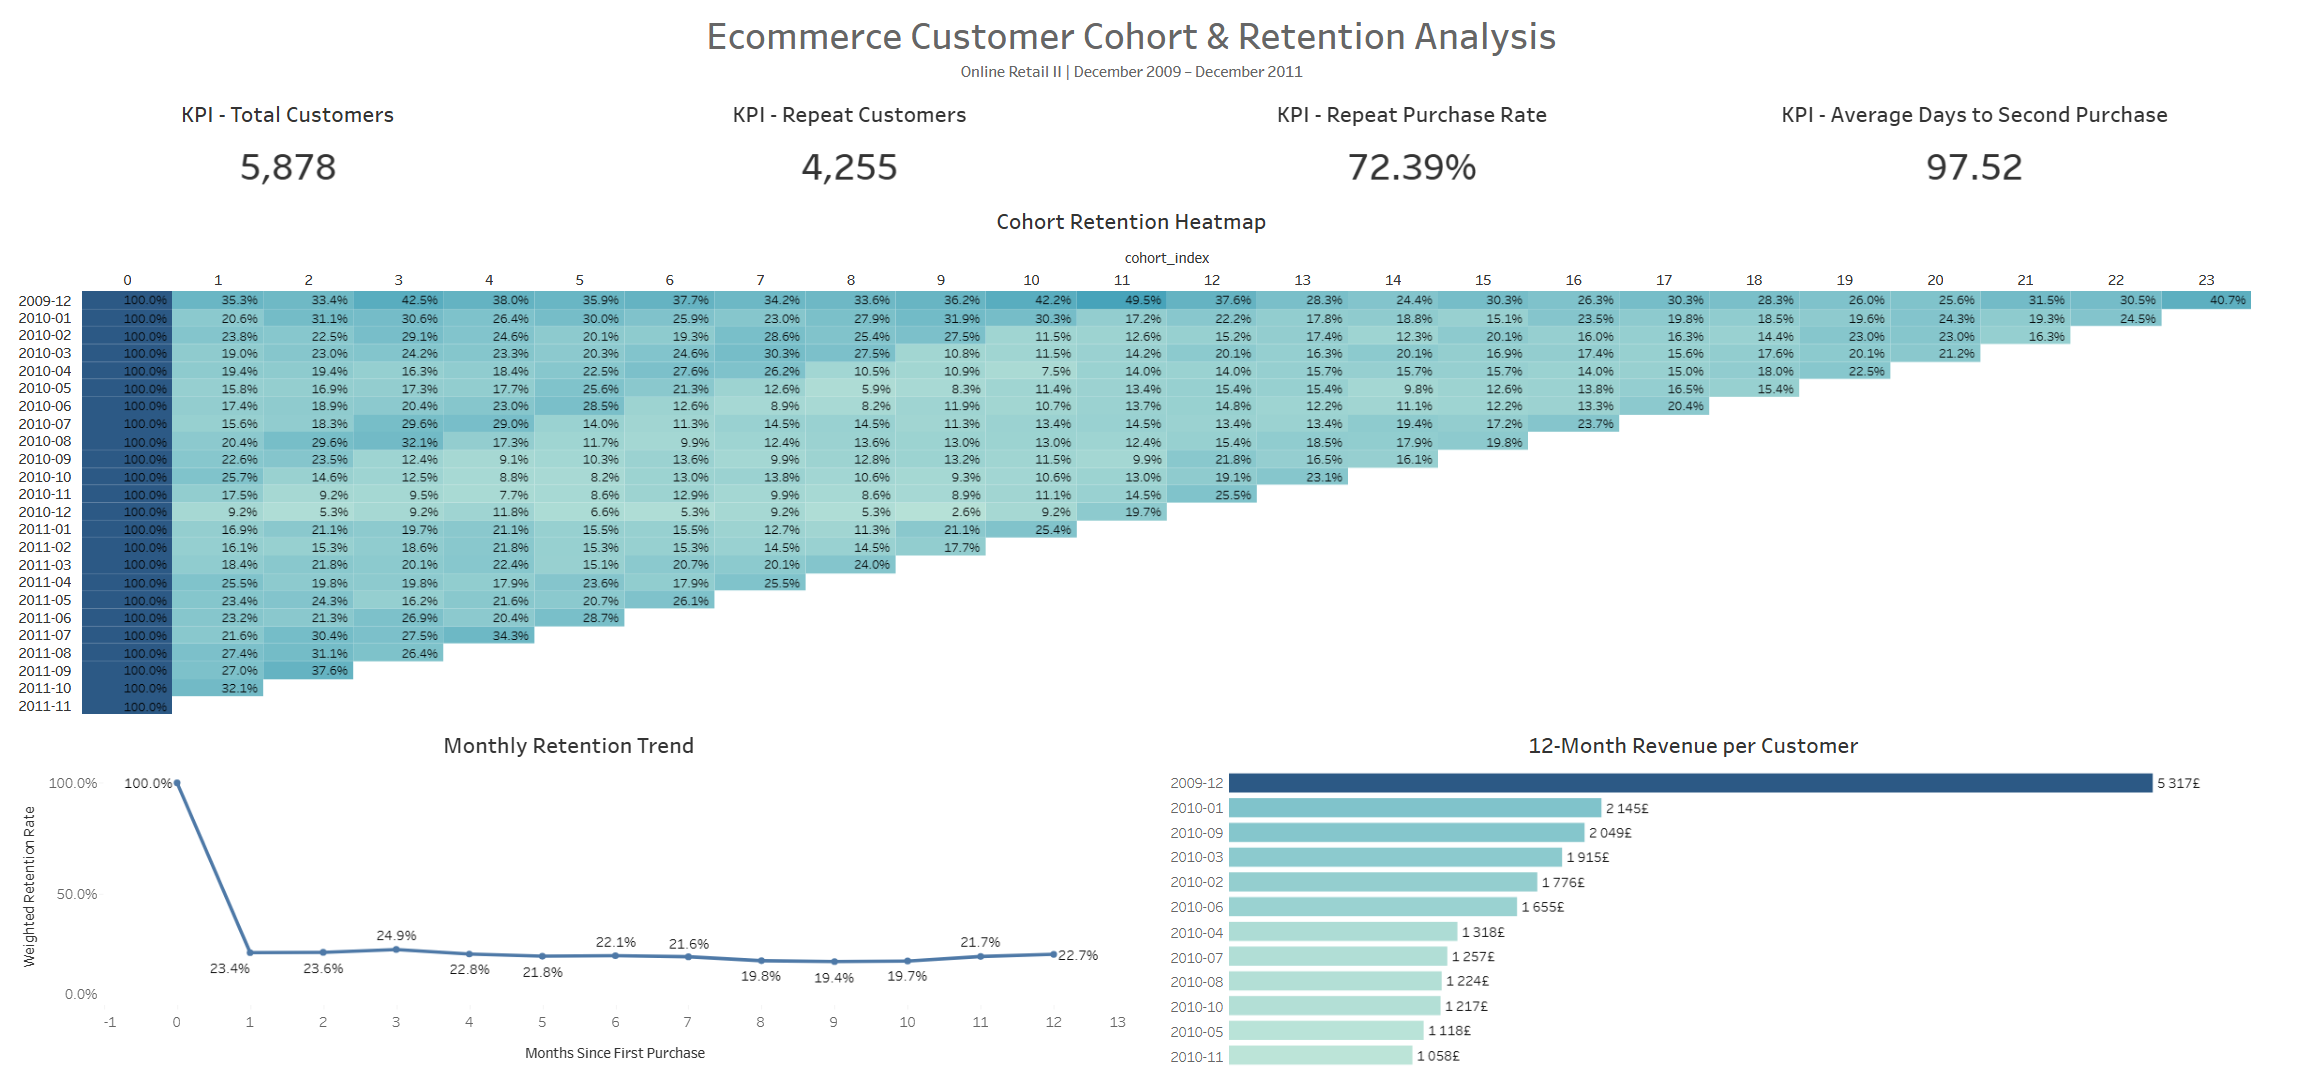

The dashboard page shown, as its layout file describes it:
{"tool":"tableau","page":{"name":"Customer Retention Dashboard","canvas":[1000,1000],"units":"permille","ordinal":0},"visuals":[{"type":"text","box":[4.3,8.2,991.4,78]},{"type":"worksheet","title":"KPI - Total Customers","mark":"Automatic","box":[4.3,86.2,247.7,97.5]},{"type":"worksheet","title":"KPI - Repeat Customers","mark":"Automatic","box":[252,86.2,248,97.5]},{"type":"worksheet","title":"KPI - Repeat Purchase Rate","mark":"Automatic","box":[500,86.2,247.7,97.5]},{"type":"worksheet","title":"KPI - Average Days to Second Purchase","mark":"Automatic","box":[747.7,86.2,248,97.5]},{"type":"worksheet","title":"Cohort Retention Heatmap","mark":"Square","rows":["cohort_label"],"cols":["cohort_index"],"box":[4.3,183.7,991.4,482.6]},{"type":"worksheet","title":"Monthly Retention Trend","mark":"Line","rows":["Calculation_0014615806435372"],"cols":["cohort_index"],"box":[4.3,666.3,495.7,325.5]},{"type":"worksheet","title":"12-Month Revenue per Customer","mark":"Automatic","rows":["cohort_label"],"cols":["cumulative_revenue_per_customer"],"box":[500,666.3,495.7,325.5]}]}

Visuals, with their boxes on the dashboard's canvas, which has no fixed pixel size, in thousandths of its width and height (x1, y1, x2, y2). These are canvas units, not pixel positions in the 2316x1075 screenshot, which may show the page scaled, cropped or inside an application window:
text: bbox(4, 8, 996, 86)
"KPI - Total Customers" worksheet: bbox(4, 86, 252, 184)
"KPI - Repeat Customers" worksheet: bbox(252, 86, 500, 184)
"KPI - Repeat Purchase Rate" worksheet: bbox(500, 86, 748, 184)
"KPI - Average Days to Second Purchase" worksheet: bbox(748, 86, 996, 184)
"Cohort Retention Heatmap" worksheet (Square marks): bbox(4, 184, 996, 666)
"Monthly Retention Trend" worksheet (Line marks): bbox(4, 666, 500, 992)
"12-Month Revenue per Customer" worksheet: bbox(500, 666, 996, 992)
